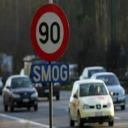speed_limit_90: (31, 3, 69, 62)
